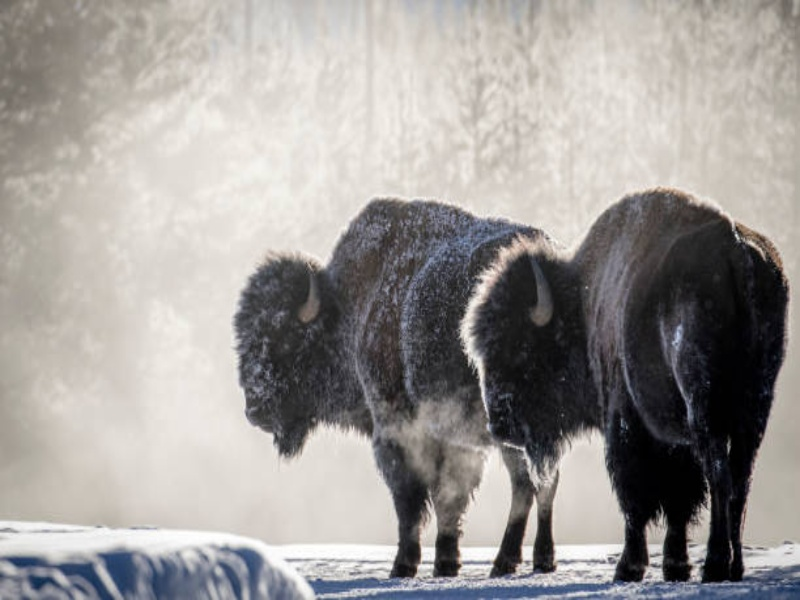buffalo: (216, 189, 789, 591)
